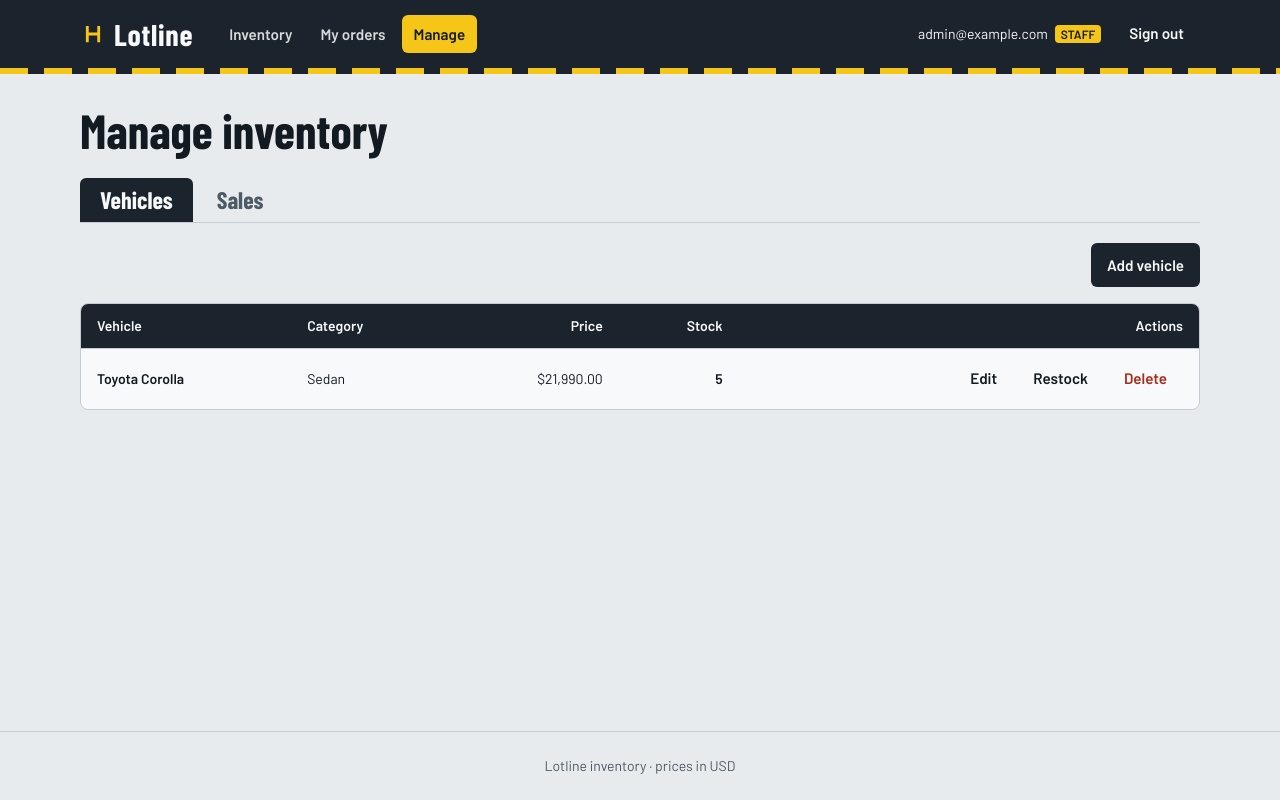
Test: admin-only UI › asks for confirmation before deleting, and Keep it does nothing
Click the button with aria-label "Delete Toyota Corolla".
click(1146, 379)  # box x1=1108 y1=357 x2=1183 y2=401
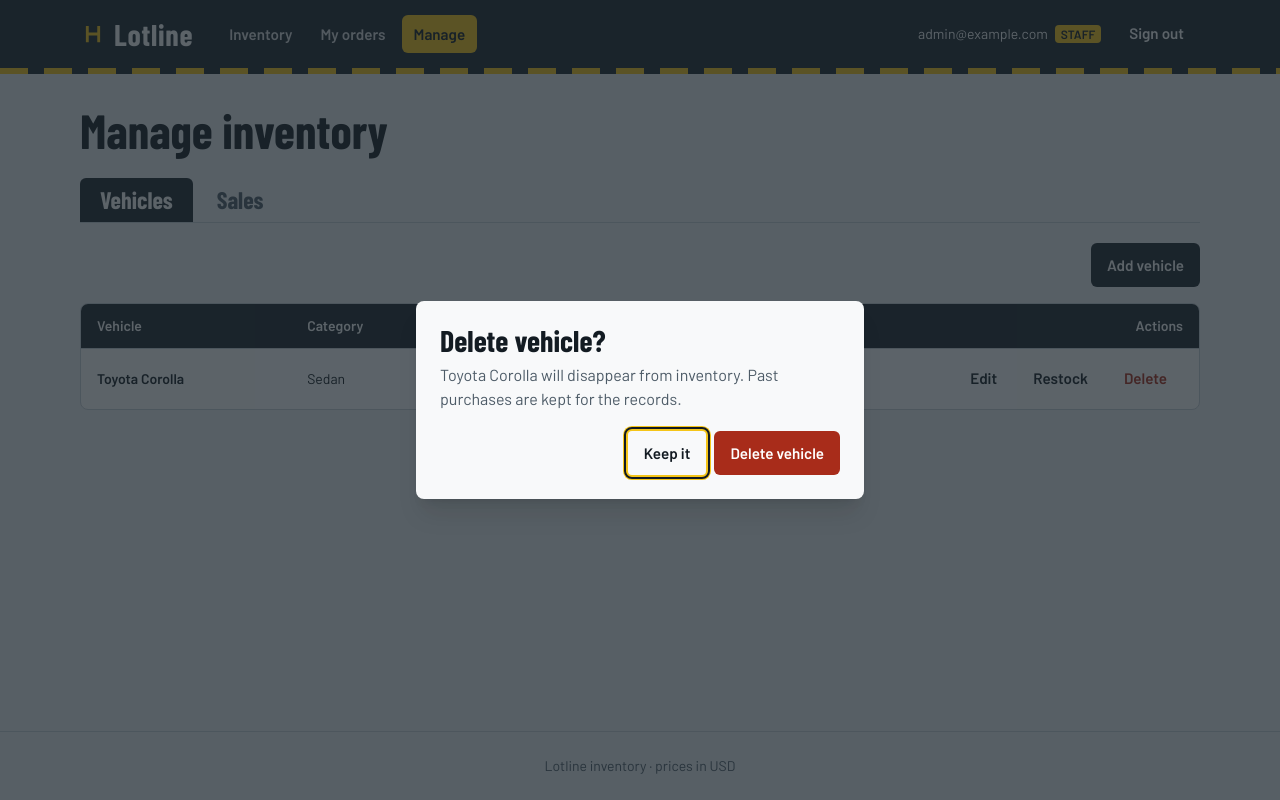
Click the button "Keep it".
click(667, 453)  # box x1=628 y1=431 x2=706 y2=475
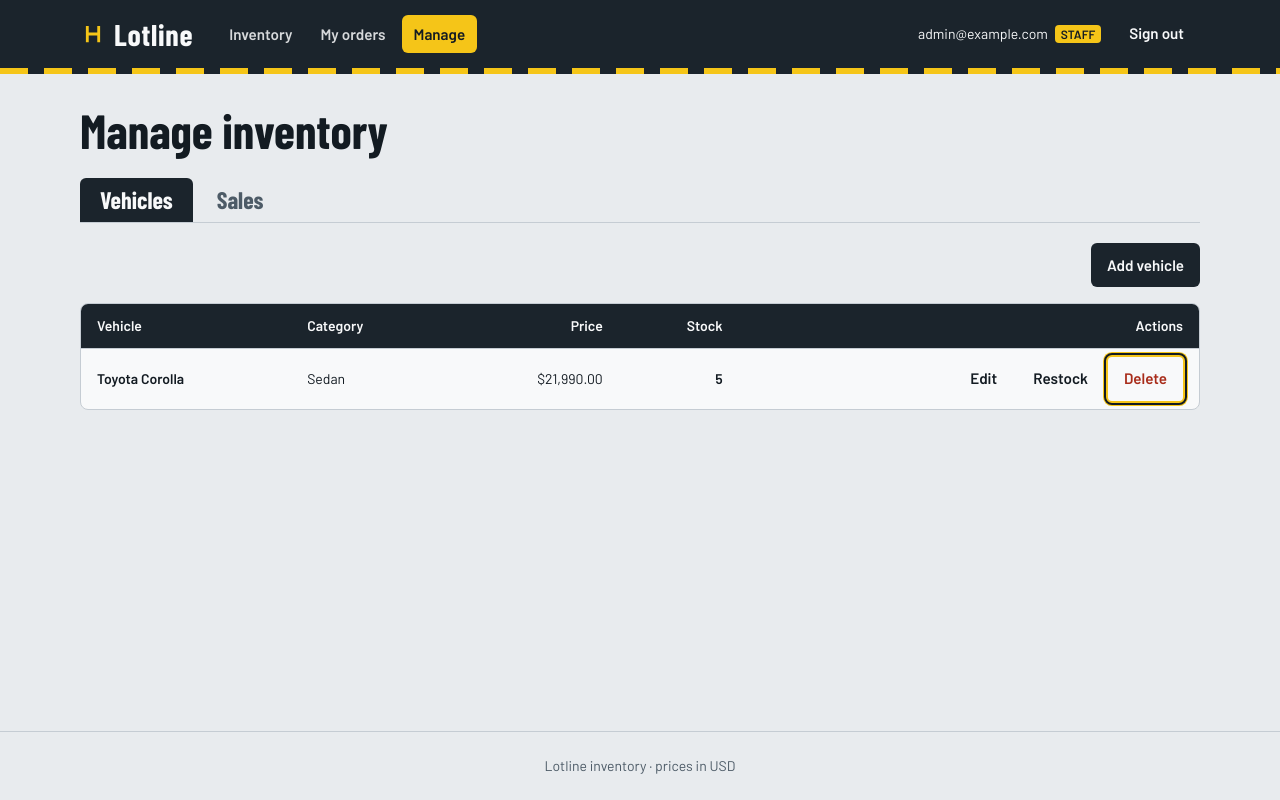
Click the button with aria-label "Delete Toyota Corolla".
click(1146, 379)  # box x1=1108 y1=357 x2=1183 y2=401
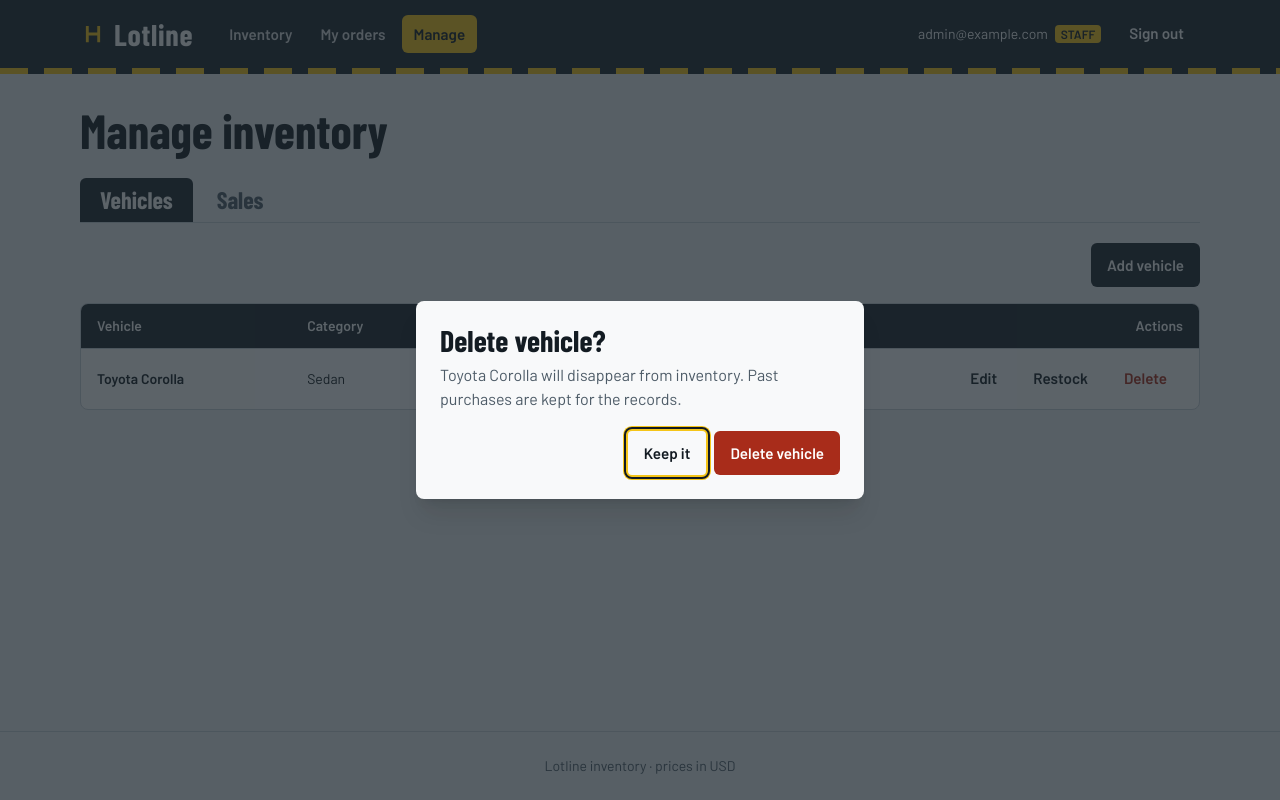
Click the button "Delete vehicle".
click(777, 453)  # box x1=714 y1=431 x2=840 y2=475
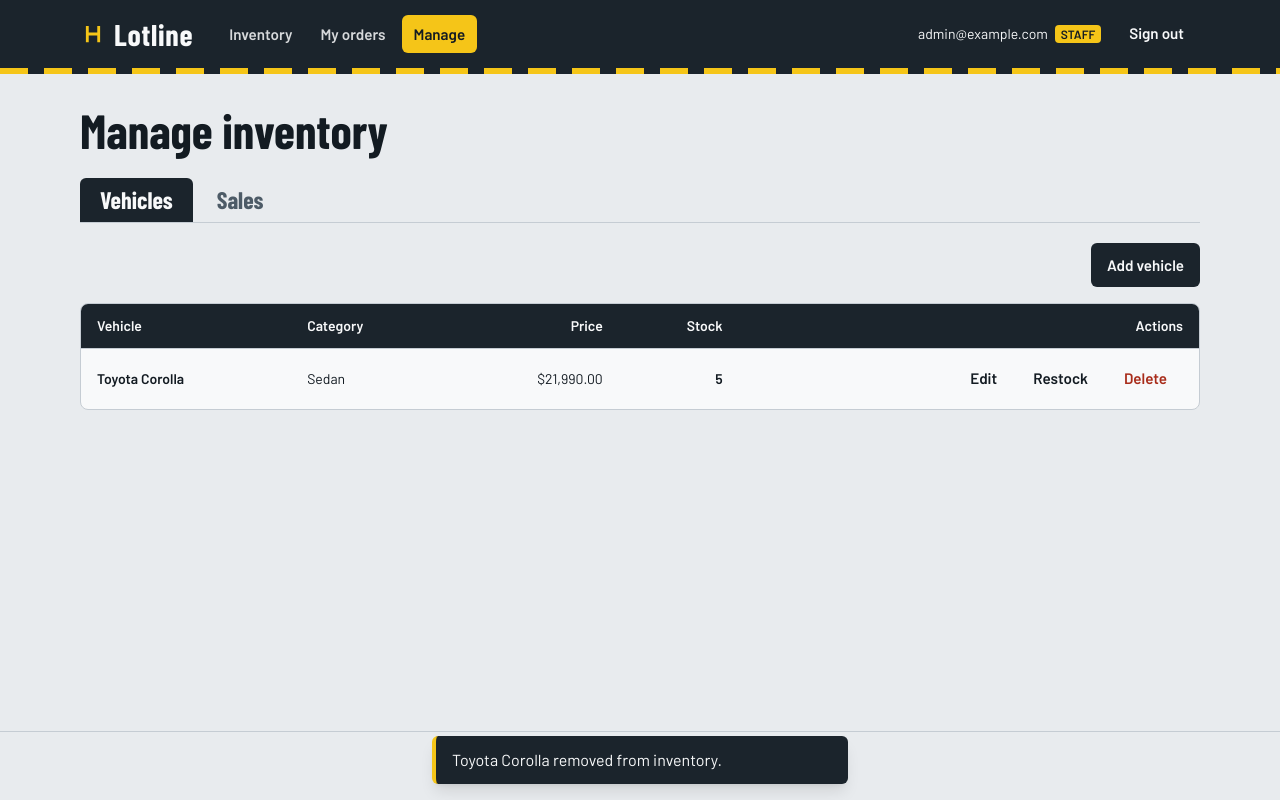
Now the text "Toyota Corolla removed from inventory." is shown, box x1=432 y1=736 x2=848 y2=784
